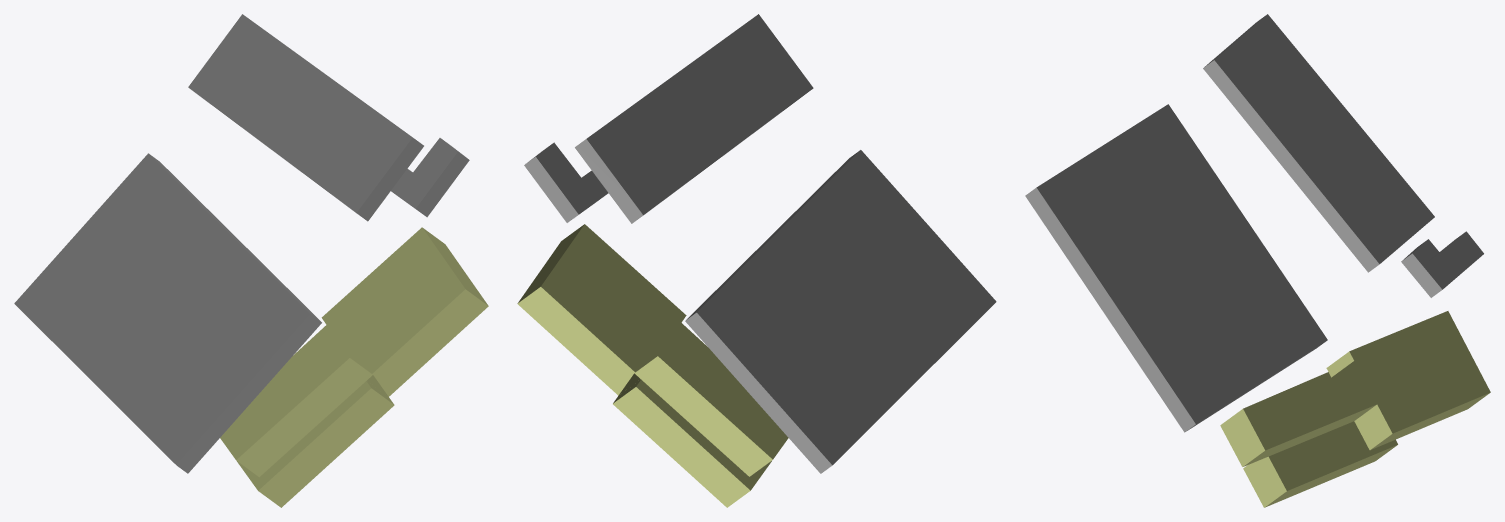
3 views of the same model, side by side, from view 1: azimuth 30°, elevation 25°; view 2: azimuth 150°, elevation 25°; view 3: azimuth 330°, elevation 25° (orthographic). The views are drawn at different scales.
Visible parts, largest first — view 1: 0_1_0_2_1_3_3_2; view 2: 0_1_0_2_1_3_3_2; view 3: 0_1_0_2_1_3_3_2.
Part boxes in pixels (bbox=[...]): 0_1_0_2_1_3_3_2: bbox=[14, 14, 488, 507]; 0_1_0_2_1_3_3_2: bbox=[517, 14, 996, 507]; 0_1_0_2_1_3_3_2: bbox=[1025, 14, 1490, 507].
Bounding box in the file's own units: 67.97 × 68.62 × 6.1.
